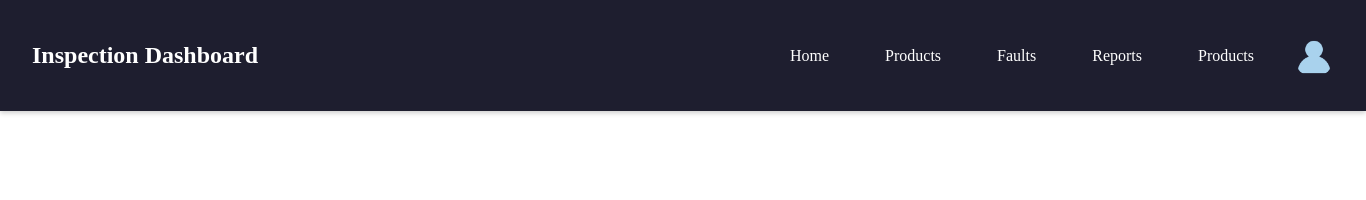
Navbar Component › shows user popup when authenticated and avatar clicked
This screenshot has width=1366, height=200.
Click the picture with alt text "avatar": [1314, 56] box [1294, 36, 1334, 76]
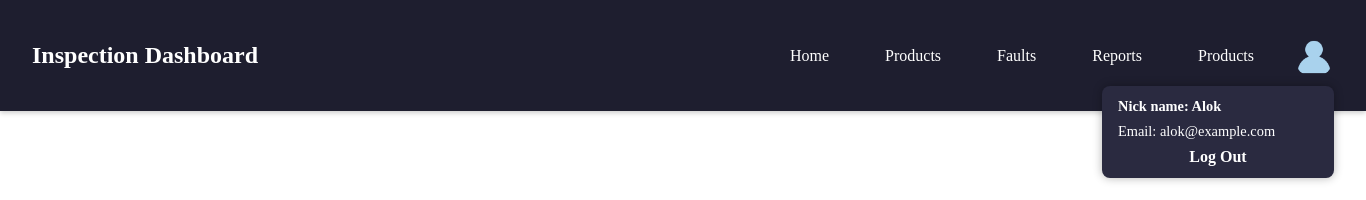
Result: the text "Nick name: Alok" is shown at [1118, 98, 1221, 114]
Result: the text "Email: alok@example.com" is shown at [1118, 122, 1275, 138]
